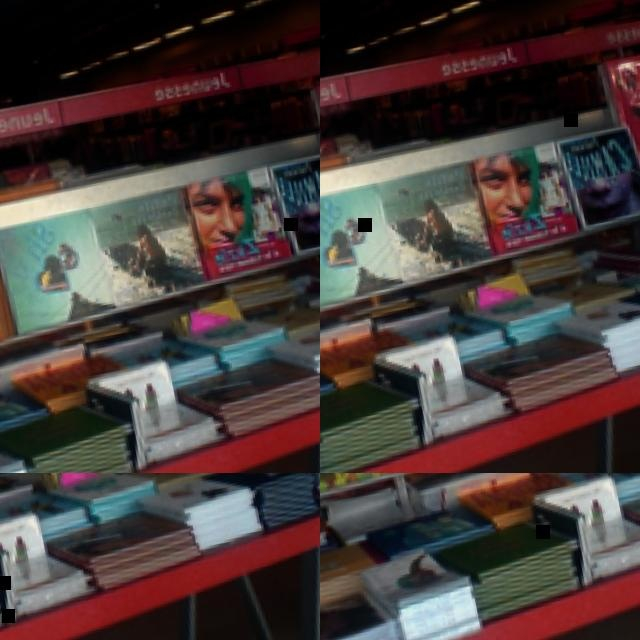Person: (320, 0, 386, 421)
machinery: (0, 182, 316, 473), (0, 473, 320, 640)
